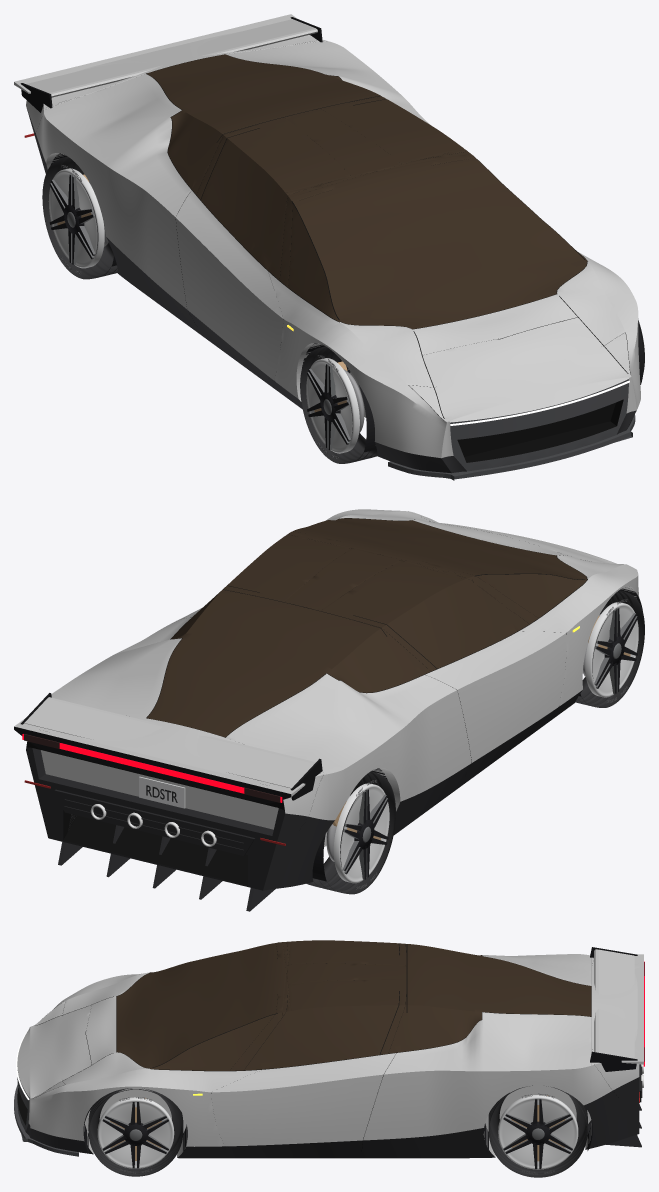
Rendered from roadster.glb.
3 views of the same model, one above another, from view 1: azimuth 30°, elevation 25°; view 2: azimuth 150°, elevation 25°; view 3: azimuth 270°, elevation 25° (orthographic). The views are drawn at different scales.
Visible parts, largest first — view 1: chassis, wheel_rr_spin, wheel_fr_spin, wing_body; view 2: chassis, wing_body, wheel_rr_spin, wheel_fr_spin; view 3: chassis, wheel_rl_spin, wheel_fl_spin, wing_body.
Boxes of the visible parts, x1=… form: chassis: x1=14, y1=14, x2=643, y2=480; wheel_rr_spin: x1=42, y1=156, x2=117, y2=279; wheel_fr_spin: x1=300, y1=346, x2=377, y2=463; wing_body: x1=20, y1=17, x2=322, y2=112; chassis: x1=14, y1=509, x2=642, y2=911; wing_body: x1=20, y1=693, x2=322, y2=800; wheel_rr_spin: x1=306, y1=771, x2=395, y2=894; wheel_fr_spin: x1=575, y1=590, x2=644, y2=707; chassis: x1=14, y1=940, x2=644, y2=1158; wheel_rl_spin: x1=488, y1=1085, x2=587, y2=1177; wheel_fl_spin: x1=88, y1=1088, x2=183, y2=1176; wing_body: x1=590, y1=947, x2=637, y2=1071.
Bounding box in the file's own units: 2 × 1.21 × 4.62.
